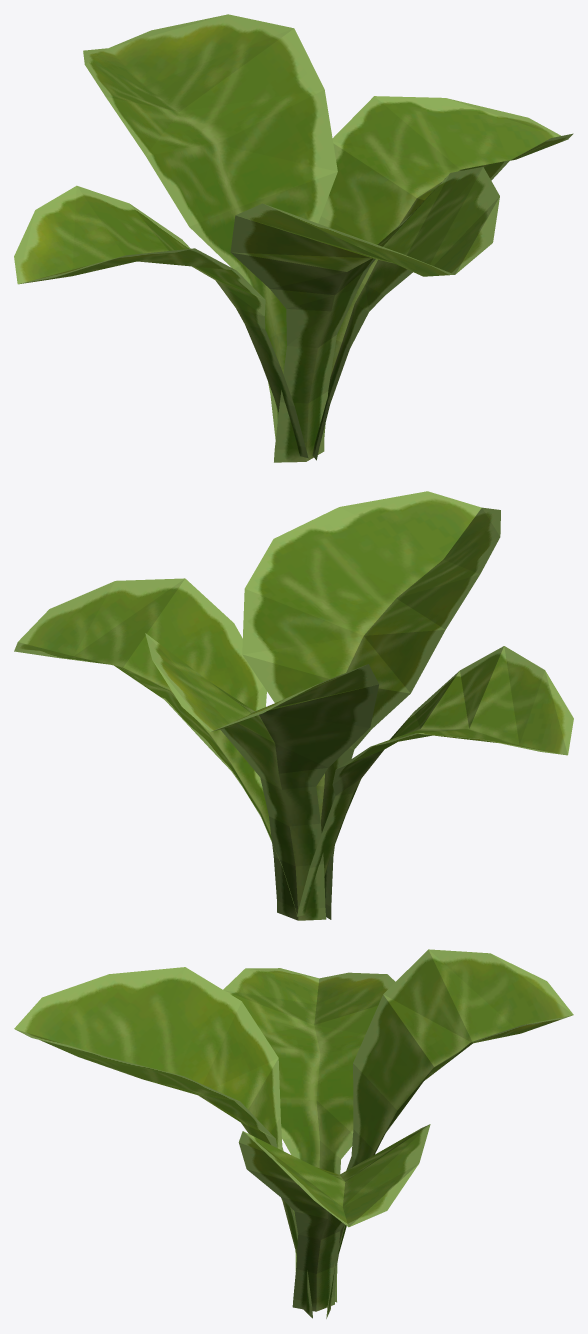
The model's file is Cabbage_01.obj.
The picture shows the model from 3 angles, top to bottom: view 1: azimuth 30°, elevation 25°; view 2: azimuth 150°, elevation 25°; view 3: azimuth 270°, elevation 25°; orthographic projection. The views are drawn at different scales.
Size of the model in its own units: 0.2807 by 0.1643 by 0.2721.
1 material, 1 textured.
